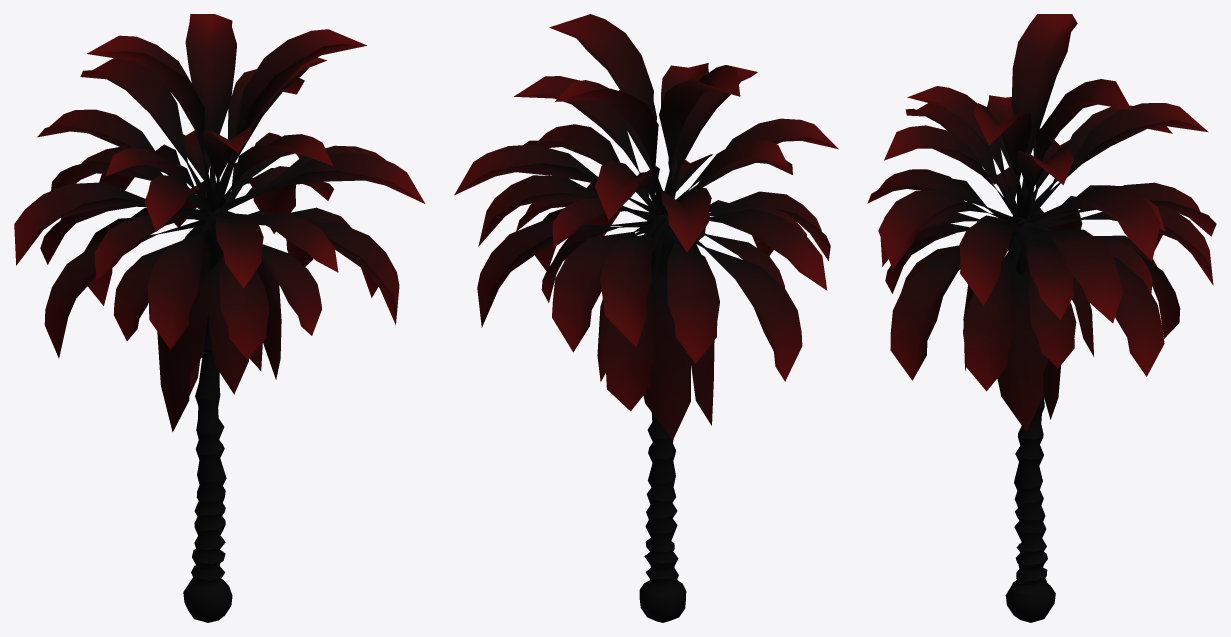
File: TFD_Palm_Tree_01A.fbx
3 renders of one model, left to right at view 1: azimuth 30°, elevation 25°; view 2: azimuth 150°, elevation 25°; view 3: azimuth 270°, elevation 25°, orthographic. The views are drawn at different scales.
Parts seen in each view (by area): view 1: TFD_Palm_Tree_01A_LOD0; view 2: TFD_Palm_Tree_01A_LOD0; view 3: TFD_Palm_Tree_01A_LOD0.
Boxes of the visible parts, x1,y1,x2,y2 form: TFD_Palm_Tree_01A_LOD0: (14, 14, 425, 622); TFD_Palm_Tree_01A_LOD0: (454, 14, 838, 622); TFD_Palm_Tree_01A_LOD0: (867, 14, 1216, 622).
Bounding box in the file's own units: 456 × 726 × 402.
